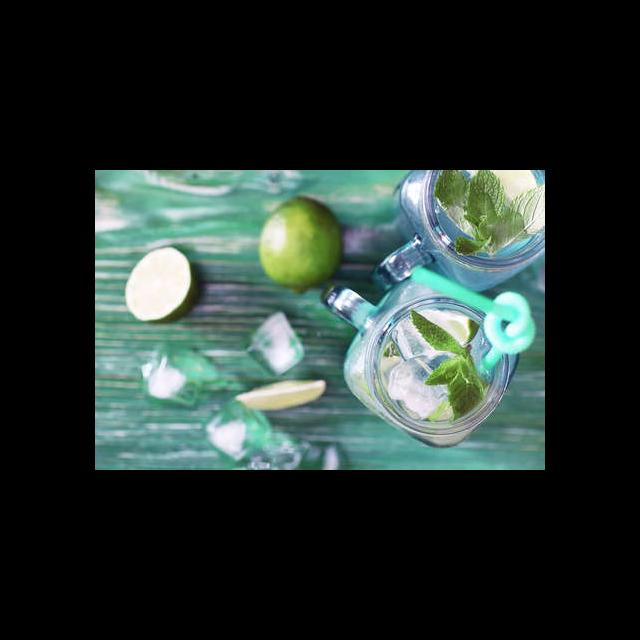lime: (257, 191, 348, 299)
